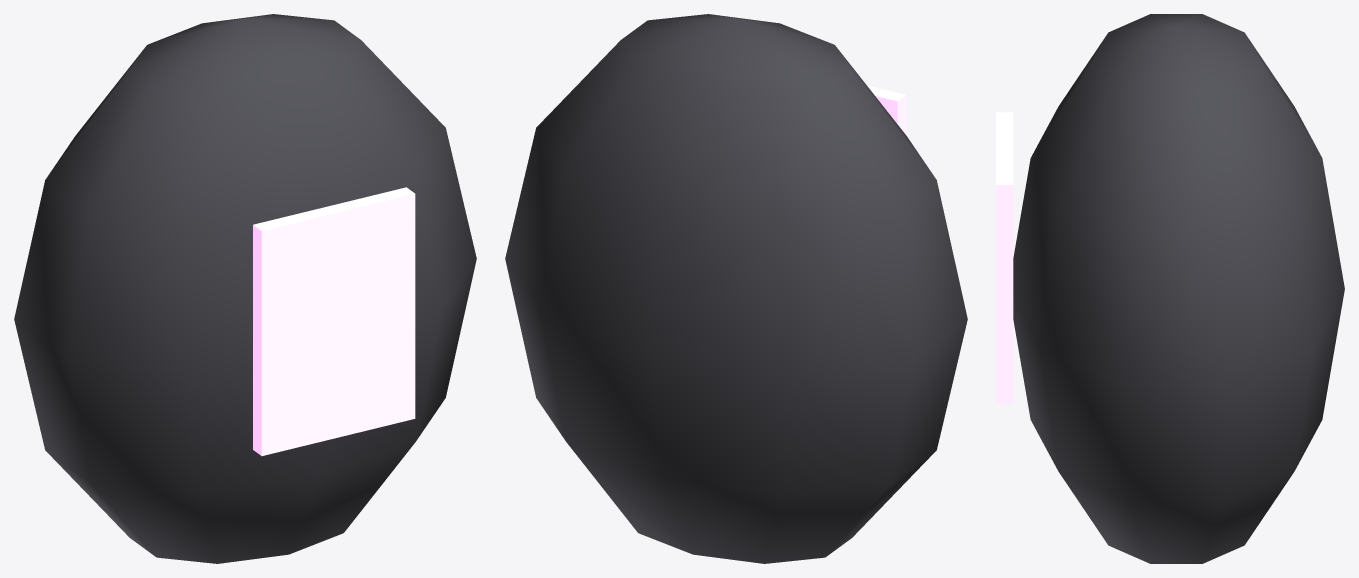
File: rune_item_glowing_runestone.glb
3 views of the same model, side by side, from view 1: azimuth 30°, elevation 25°; view 2: azimuth 150°, elevation 25°; view 3: azimuth 270°, elevation 25° (orthographic). The views are drawn at different scales.
Visible parts, largest first — view 1: GD_rune_item_glowing_runestone__m0, GD_rune_item_glowing_runestone__m1; view 2: GD_rune_item_glowing_runestone__m0, GD_rune_item_glowing_runestone__m1; view 3: GD_rune_item_glowing_runestone__m0, GD_rune_item_glowing_runestone__m1.
Part boxes in pixels (bbox=[...]): GD_rune_item_glowing_runestone__m0: bbox=[14, 14, 476, 563]; GD_rune_item_glowing_runestone__m1: bbox=[253, 187, 415, 455]; GD_rune_item_glowing_runestone__m0: bbox=[505, 14, 967, 563]; GD_rune_item_glowing_runestone__m1: bbox=[867, 85, 906, 134]; GD_rune_item_glowing_runestone__m0: bbox=[1013, 14, 1344, 563]; GD_rune_item_glowing_runestone__m1: bbox=[996, 112, 1013, 403].
Bounding box in the file's own units: 0.1331 × 0.168 × 0.1015.
